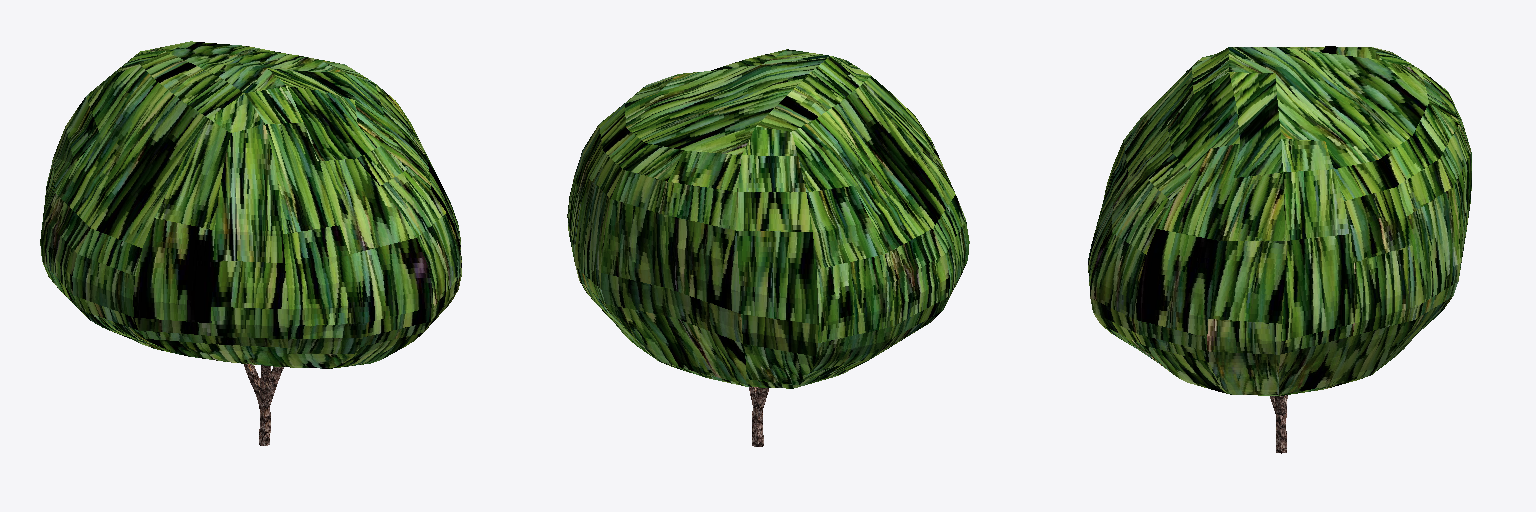
3 renders of one model, left to right at view 1: azimuth 30°, elevation 25°; view 2: azimuth 150°, elevation 25°; view 3: azimuth 270°, elevation 25°, orthographic.
Visible parts, largest first — view 1: tree.001; view 2: tree.001; view 3: tree.001.
Part boxes in pixels (left/top/right/bottom): tree.001: left=40, top=41, right=461, bottom=445; tree.001: left=567, top=49, right=969, bottom=446; tree.001: left=1088, top=46, right=1471, bottom=453.
Bounding box in the file's own units: 16.4 × 16.31 × 14.93.
Materials: 2 (1 with a texture image).